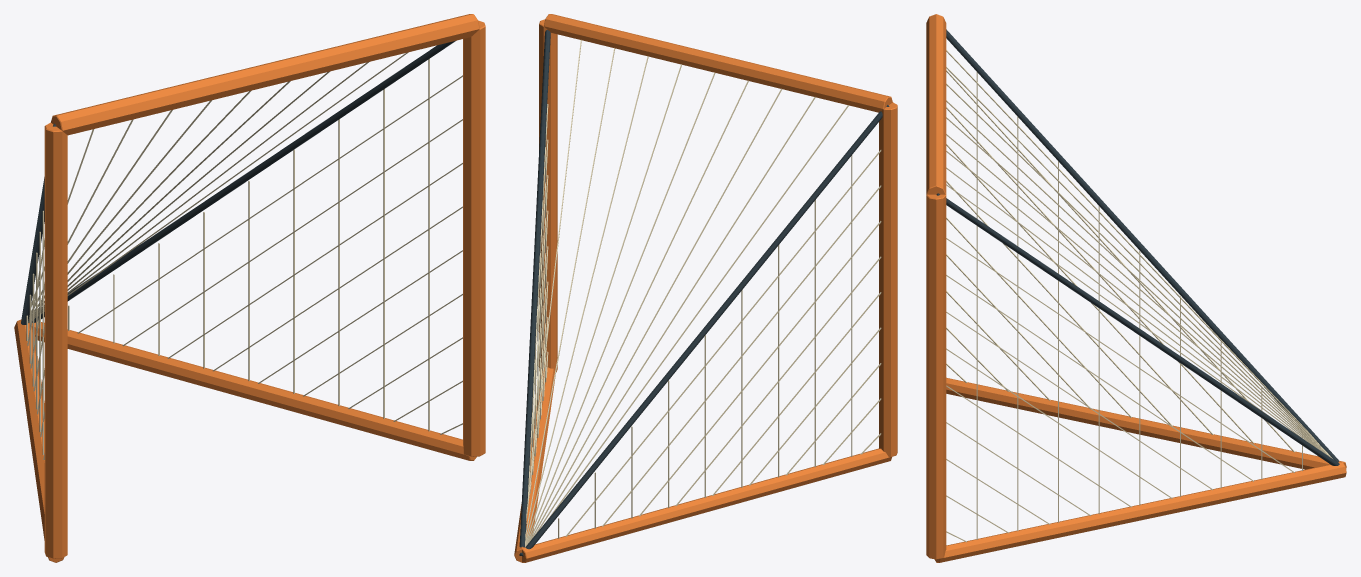
File: b09_lacrosse_goal.glb
The picture shows the model from 3 angles, left to right: view 1: azimuth 30°, elevation 25°; view 2: azimuth 150°, elevation 25°; view 3: azimuth 270°, elevation 25°; orthographic projection. The views are drawn at different scales.
Parts seen in each view (by area): view 1: b09_lacrosse_goal; view 2: b09_lacrosse_goal; view 3: b09_lacrosse_goal.
Part boxes in pixels (x1,y1,x2,y2): b09_lacrosse_goal: (14,14,485,562); b09_lacrosse_goal: (514,14,897,562); b09_lacrosse_goal: (926,14,1346,562).
Size of the model in its own units: 1.92 by 1.87 by 1.89.
